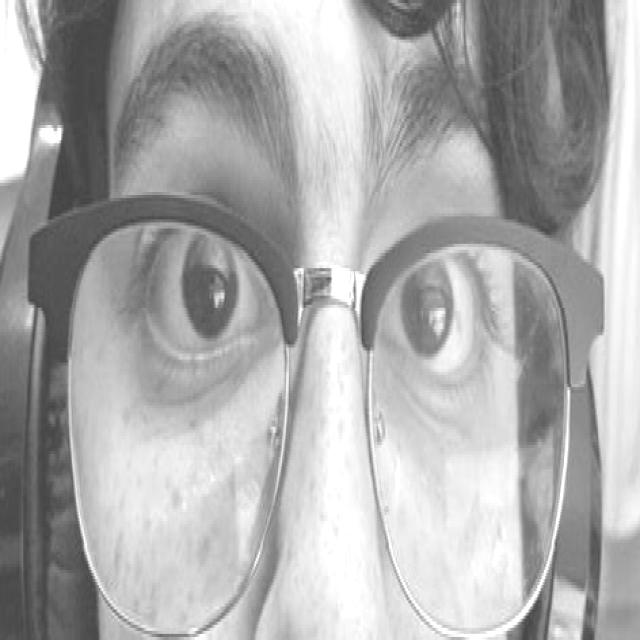real: (122, 124, 510, 526)
